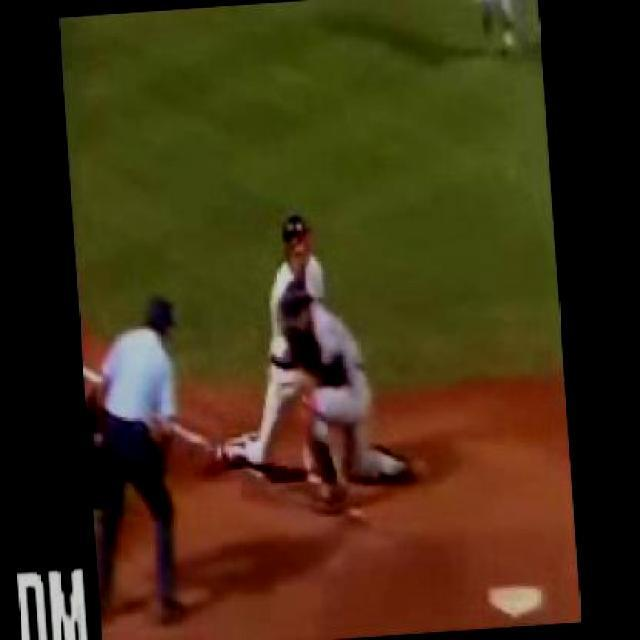fight: (202, 206, 422, 520)
non-fight: (81, 298, 208, 624)
